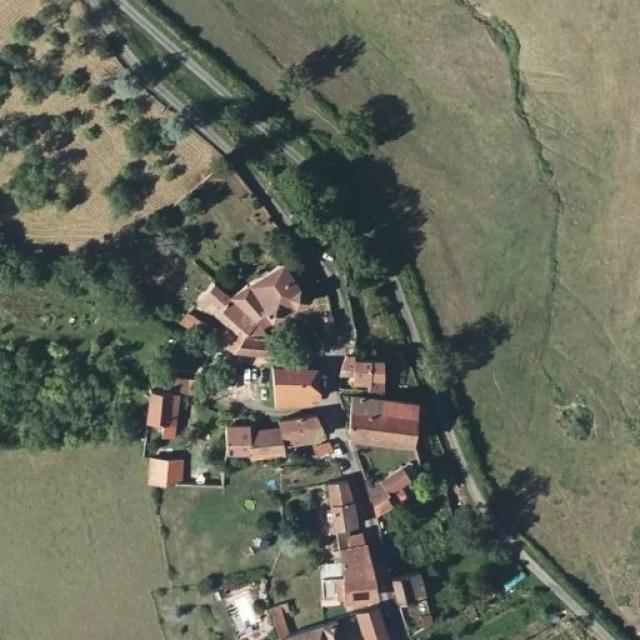maison: (323, 457, 379, 607), (228, 409, 334, 458), (362, 454, 418, 517), (390, 561, 432, 640), (347, 394, 415, 440), (332, 346, 390, 394), (268, 363, 329, 408)
villa: (174, 261, 334, 343), (142, 366, 196, 490)
